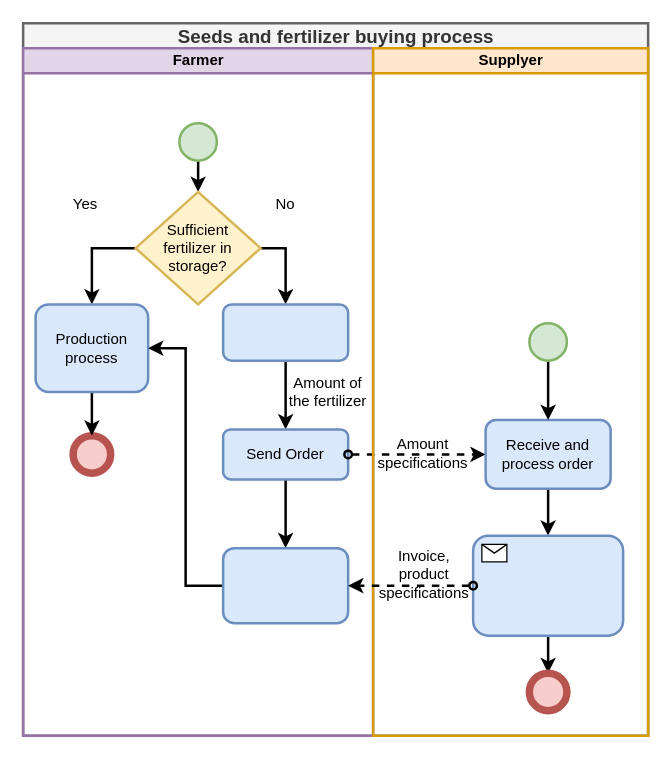
The diagram is 670 pixels wide and 758 high, and some of its shapes have lost their labels. The shapes that lost their labels are listed below. From the top down, each one's box as (x1, y1, x2, y2) in pixels, then its label:
(221, 302, 349, 361): Determine required amount
(221, 546, 349, 624): Recieve product
(471, 534, 624, 636): Send product and invoiice
